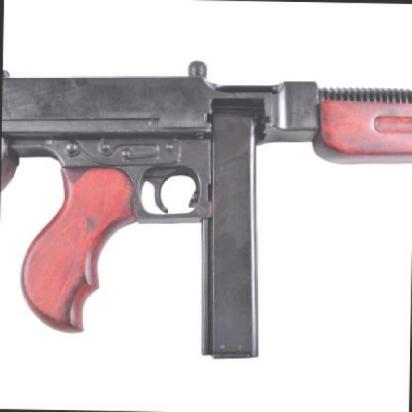Gun: (14, 44, 411, 364)
